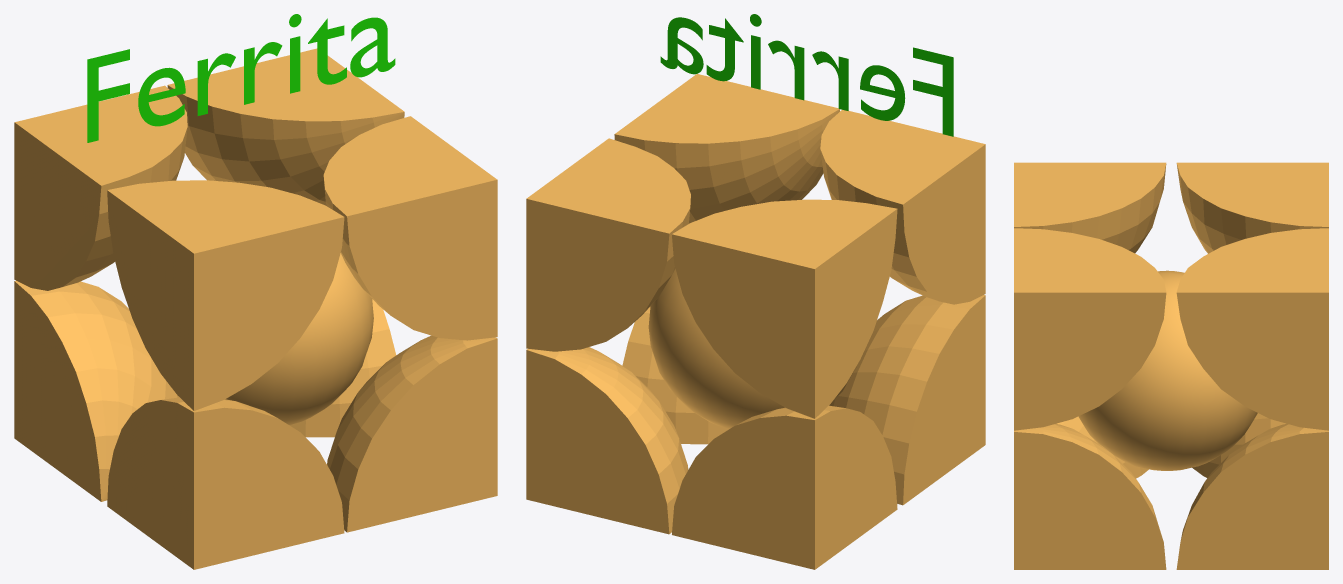
File: ferrita.glb
3 renders of one model, left to right at view 1: azimuth 30°, elevation 25°; view 2: azimuth 150°, elevation 25°; view 3: azimuth 270°, elevation 25°, orthographic. The views are drawn at different scales.
Parts seen in each view (by area): view 1: Sphere.292_Sphere.230, Sphere.291_Sphere.227, Sphere.294_Sphere.232, Sphere.293_Sphere.231, Sphere.295_Sphere.233, Sphere.296_Sphere.234, Sphere.298_Sphere.236, Sphere.302_Sphere.240, Text.001, Sphere.297_Sphere.235; view 2: Sphere.296_Sphere.234, Sphere.295_Sphere.233, Sphere.298_Sphere.236, Sphere.297_Sphere.235, Sphere.292_Sphere.230, Sphere.291_Sphere.227, Sphere.294_Sphere.232, Sphere.302_Sphere.240, Text.001, Sphere.293_Sphere.231; view 3: Sphere.294_Sphere.232, Sphere.298_Sphere.236, Sphere.293_Sphere.231, Sphere.297_Sphere.235, Sphere.302_Sphere.240, Sphere.292_Sphere.230, Sphere.296_Sphere.234, Sphere.295_Sphere.233, Sphere.291_Sphere.227.
Boxes of the visible parts, <box> form: Sphere.292_Sphere.230: <box>107,180,344,410</box>; Sphere.291_Sphere.227: <box>107,397,344,569</box>; Sphere.294_Sphere.232: <box>323,116,497,340</box>; Sphere.293_Sphere.231: <box>327,335,497,532</box>; Sphere.295_Sphere.233: <box>14,280,179,501</box>; Sphere.296_Sphere.234: <box>14,85,187,290</box>; Sphere.298_Sphere.236: <box>167,48,404,205</box>; Sphere.302_Sphere.240: <box>169,253,373,424</box>; Text.001: <box>87,14,395,142</box>; Sphere.297_Sphere.235: <box>289,299,396,437</box>; Sphere.296_Sphere.234: <box>672,199,897,418</box>; Sphere.295_Sphere.233: <box>672,405,897,569</box>; Sphere.298_Sphere.236: <box>526,138,690,351</box>; Sphere.297_Sphere.235: <box>526,347,688,534</box>; Sphere.292_Sphere.230: <box>820,109,985,304</box>; Sphere.291_Sphere.227: <box>829,295,985,505</box>; Sphere.294_Sphere.232: <box>614,74,839,223</box>; Sphere.302_Sphere.240: <box>648,268,856,428</box>; Text.001: <box>660,14,953,136</box>; Sphere.293_Sphere.231: <box>622,307,729,444</box>; Sphere.294_Sphere.232: <box>1014,228,1166,430</box>; Sphere.298_Sphere.236: <box>1176,228,1328,430</box>; Sphere.293_Sphere.231: <box>1014,423,1166,569</box>; Sphere.297_Sphere.235: <box>1176,423,1328,569</box>; Sphere.302_Sphere.240: <box>1078,270,1257,470</box>; Sphere.292_Sphere.230: <box>1014,162,1166,253</box>; Sphere.296_Sphere.234: <box>1176,162,1328,253</box>; Sphere.295_Sphere.233: <box>1192,413,1285,477</box>; Sphere.291_Sphere.227: <box>1057,416,1148,478</box>.
Size of the model in its own units: 4.48 by 5.89 by 4.1.
